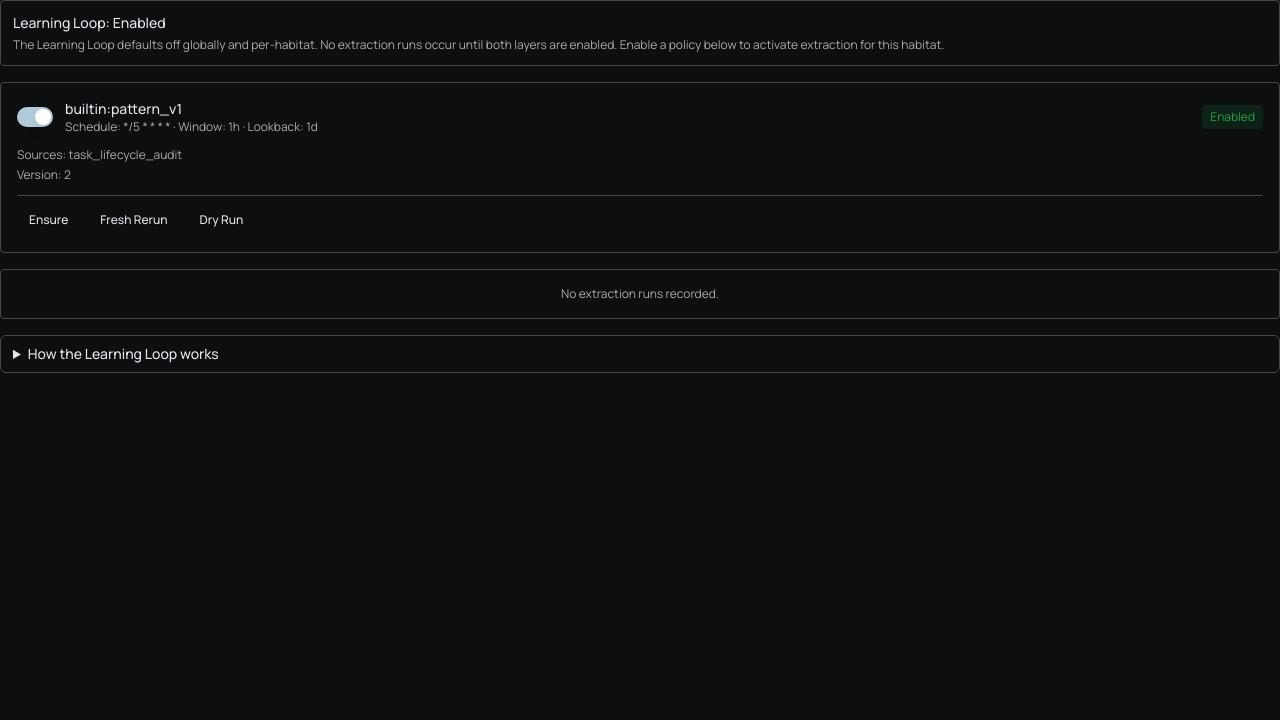
Test: LearningLoopTab › fresh rerun cannot submit without a reason
The image size is (1280, 720).
Check: the text "builtin:pattern_v1" is shown, box [65,99,182,118]
Click Fresh Rerun
Click the button with aria-label "Fresh rerun for builtin:pattern_v1" at (134, 220), box [88,204,180,236]
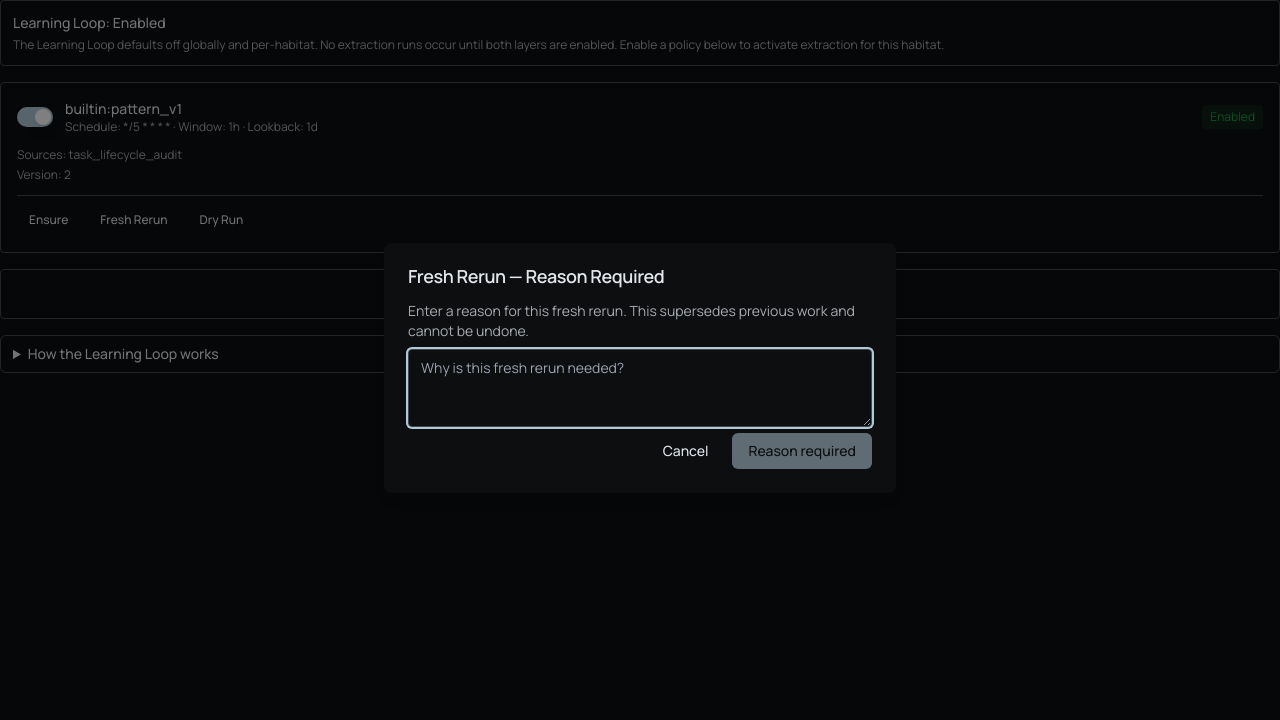
Check: the heading "Fresh Rerun — Reason Required" is shown, box [408,264,664,288]
Check: the button "Reason required" is disabled, box [732,433,872,469]
